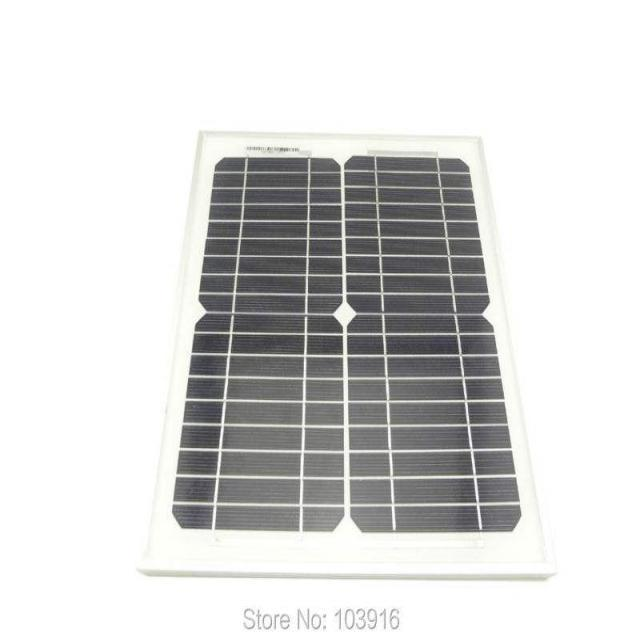no faulty: (168, 150, 547, 537)
